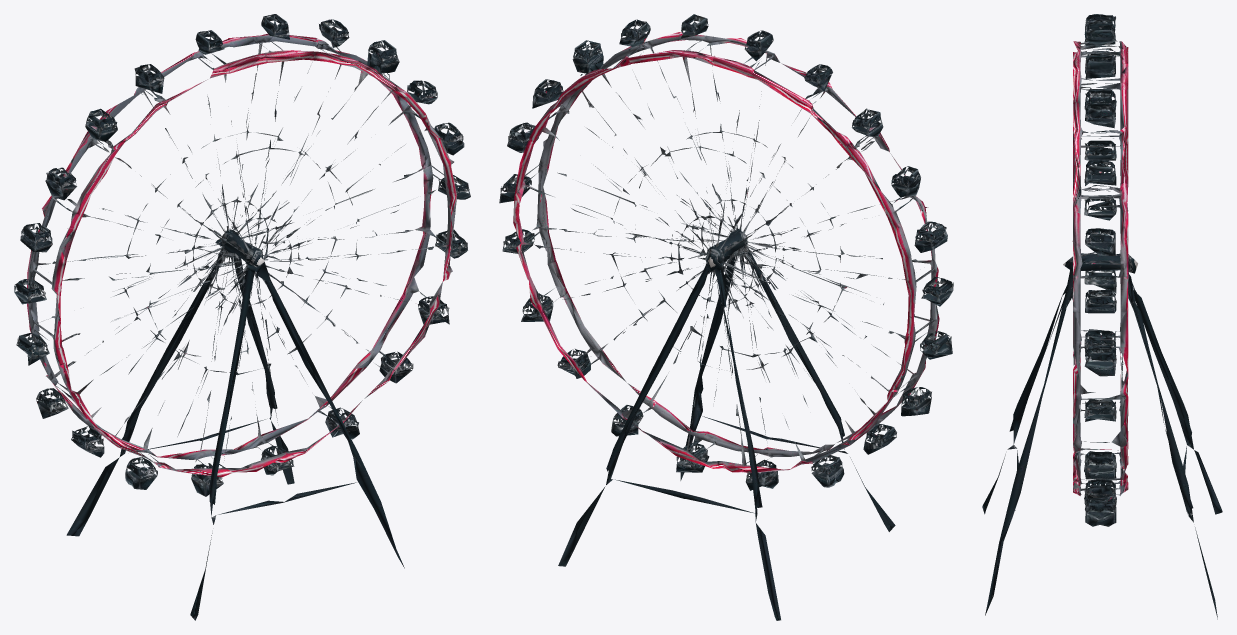
The model's file is ferris.glb.
3 renders of one model, left to right at view 1: azimuth 30°, elevation 25°; view 2: azimuth 150°, elevation 25°; view 3: azimuth 270°, elevation 25°, orthographic.
Size of the model in its own units: 1.68 by 1.9 by 0.7898.
Materials: 1 (1 with a texture image).
